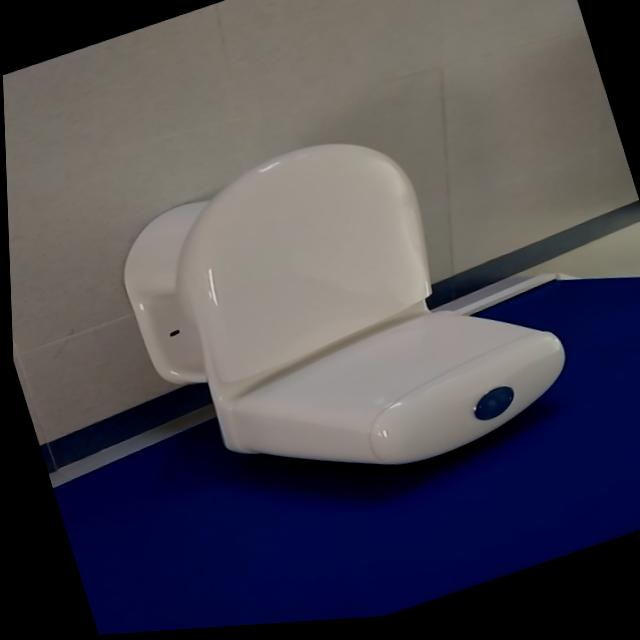toilet: (95, 88, 582, 544)
